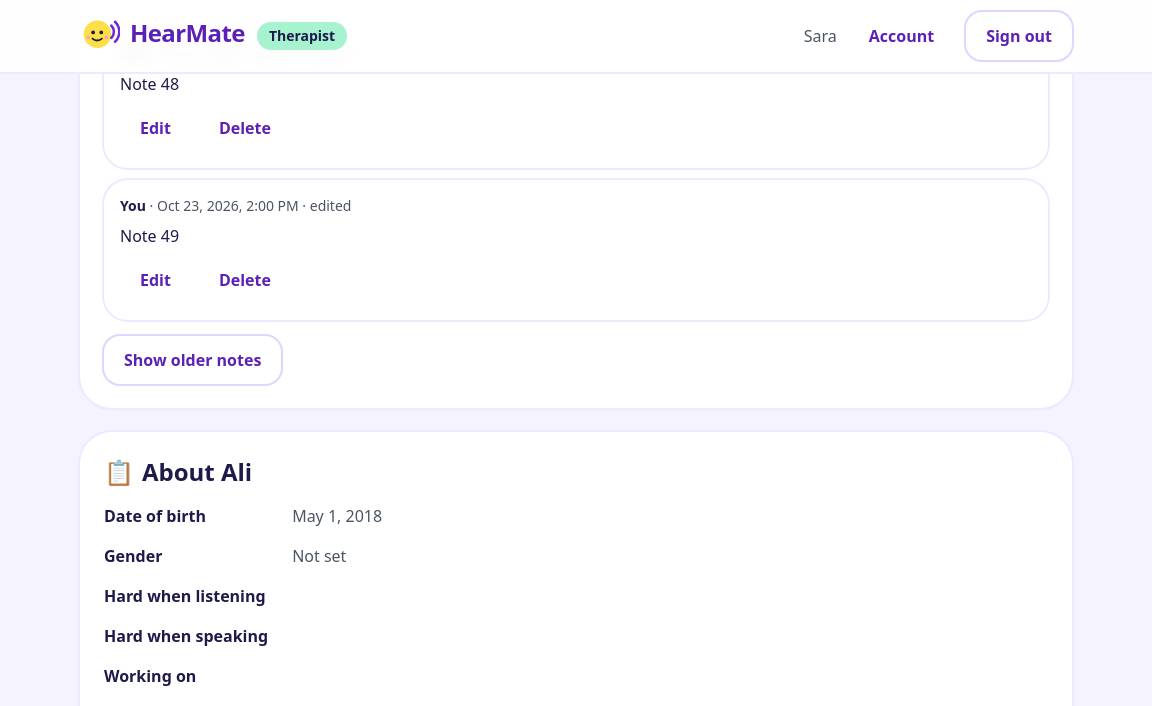
Therapist notes › loads older notes a page at a time
(page scrolled)
Click the button "Show older notes".
click(193, 360)  # box [104, 336, 281, 384]
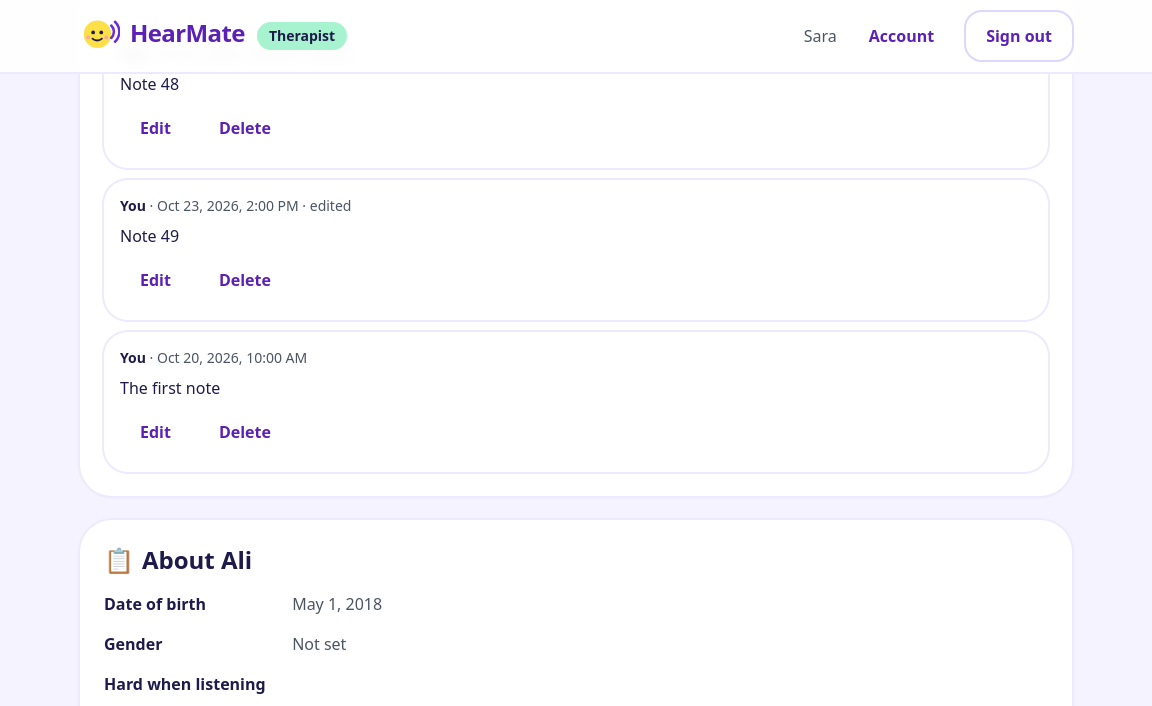
Result: the text "The first note" is shown at [120, 377, 220, 399]
Result: the button "Show older notes" is gone
